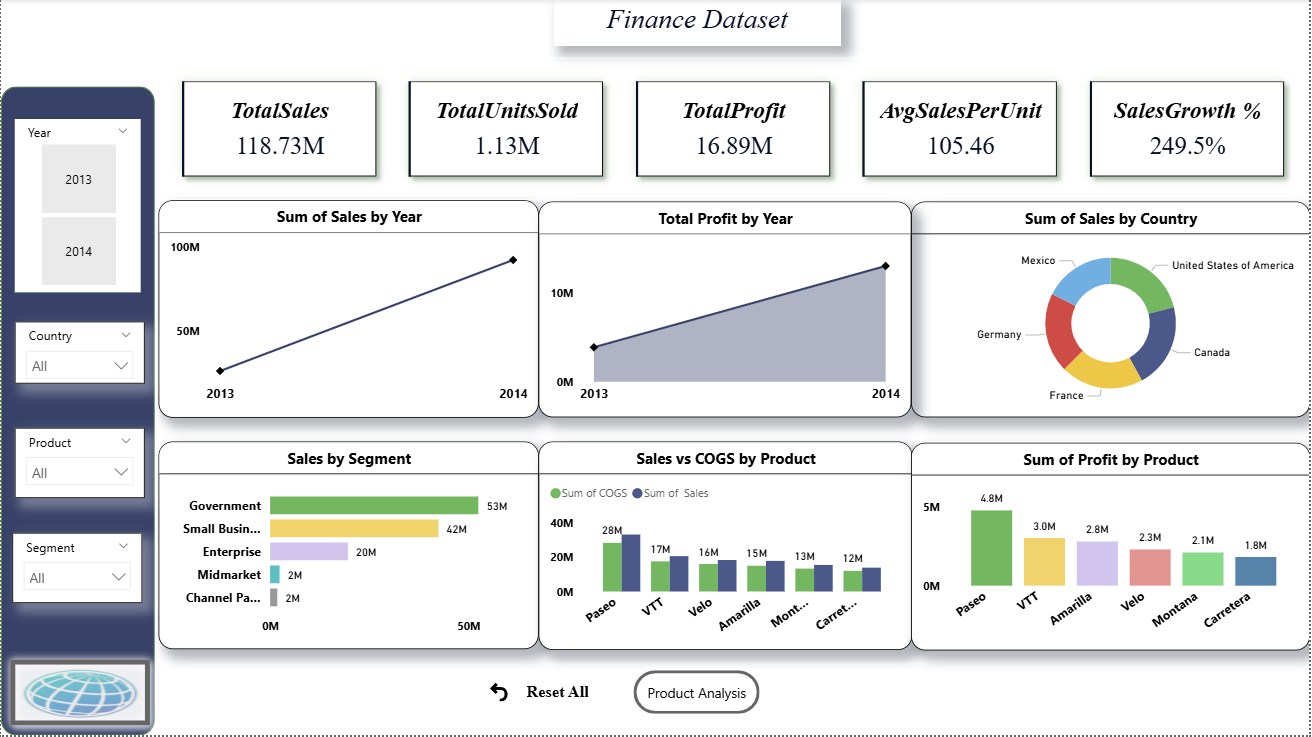

This screenshot's page, from the dashboard's own definition file:
{"tool":"powerbi","page":{"name":"Q-9(Overview)","canvas":[1280,720],"ordinal":0},"visuals":[{"type":"textbox","box":[540.5,0,281.3,45.2],"z":0},{"type":"donutChart","title":"Sum of  Sales by Country","fields":{"Y":["Sum(financials. Sales)"],"Category":["financials.Country"]},"box":[890.2,198.1,390.1,211.6],"z":1000},{"type":"clusteredBarChart","title":"Sales by Segment","fields":{"Category":["financials.Segment"],"Y":["Sum(financials. Sales)"]},"box":[154.1,432.9,371.7,203],"z":2000},{"type":"clusteredColumnChart","title":"Sales vs COGS by Product","fields":{"Y":["Sum(financials.COGS)","Sum(financials. Sales)"],"Category":["financials.Product"]},"box":[525.8,432.9,365.6,204.2],"z":3000},{"type":"clusteredColumnChart","fields":{"Category":["financials.Product"],"Y":["Sum(financials.Profit)"]},"box":[890.2,434.1,390.1,203],"z":4000},{"type":"lineChart","title":"Sum of  Sales by Year","fields":{"Category":["financials.Date.Variation.Date Hierarchy.Year","financials.Date.Variation.Date Hierarchy.Quarter","financials.Date.Variation.Date Hierarchy.Month","financials.Date.Variation.Date Hierarchy.Day"],"Y":["Sum(financials. Sales)"]},"box":[154.1,196.9,371.7,212.8],"z":5000},{"type":"shape","box":[0,85.3,150.4,634.8],"z":6000},{"type":"slicer","title":"Product","fields":{"Values":["financials.Product"]},"box":[13.5,419.4,127.2,68.5],"z":7000},{"type":"slicer","title":"Segment","fields":{"Values":["financials.Segment"]},"box":[11,522.1,127.2,68.5],"z":8000},{"type":"slicer","title":"Country","fields":{"Values":["financials.Country"]},"box":[13.5,315.5,127.2,61.1],"z":9000},{"type":"areaChart","title":"Total Profit by Year","fields":{"Category":["financials.Date.Variation.Date Hierarchy.Year","financials.Date.Variation.Date Hierarchy.Quarter","financials.Date.Variation.Date Hierarchy.Month","financials.Date.Variation.Date Hierarchy.Day"],"Y":["financials.TotalProfit"]},"box":[525.8,198.1,364.4,211.6],"z":10000},{"type":"cardVisual","fields":{"Data":["financials.TotalSalesF","financials.TotalUnitsSold","financials.TotalProfit","financials.AvgSalesPerUnit","financials.SalesGrowth %"]},"box":[154.1,57.5,1126.2,139.4],"z":11000},{"type":"actionButton","box":[465.9,656.7,121.1,42.8],"z":12000},{"type":"actionButton","box":[0,637.7,154.7,82.4],"z":13000},{"type":"actionButton","box":[618.8,656.7,123.5,42.8],"z":14000},{"type":"slicer","fields":{"Values":["financials.Year"]},"box":[13.9,117.2,123.4,169.6],"z":15000}]}

Visuals, with their boxes in screenshot pixels (x1, y1, x2, y2), scaled from the page's 1280x720 canvas onto the 1312x737 screenshot:
textbox: {"left": 554, "top": 0, "right": 842, "bottom": 46}
"Sum of  Sales by Country" donutChart: {"left": 912, "top": 203, "right": 1311, "bottom": 419}
"Sales by Segment" clusteredBarChart: {"left": 158, "top": 443, "right": 539, "bottom": 651}
"Sales vs COGS by Product" clusteredColumnChart: {"left": 539, "top": 443, "right": 914, "bottom": 652}
clusteredColumnChart - financials.Product x Sum(financials.Profit): {"left": 912, "top": 444, "right": 1311, "bottom": 652}
"Sum of  Sales by Year" lineChart: {"left": 158, "top": 202, "right": 539, "bottom": 419}
shape: {"left": 0, "top": 87, "right": 154, "bottom": 736}
"Product" slicer: {"left": 14, "top": 429, "right": 144, "bottom": 499}
"Segment" slicer: {"left": 11, "top": 534, "right": 142, "bottom": 605}
"Country" slicer: {"left": 14, "top": 323, "right": 144, "bottom": 385}
"Total Profit by Year" areaChart: {"left": 539, "top": 203, "right": 912, "bottom": 419}
cardVisual - financials.TotalSalesF x financials.TotalUnitsSold: {"left": 158, "top": 59, "right": 1311, "bottom": 202}
actionButton: {"left": 478, "top": 672, "right": 602, "bottom": 716}
actionButton: {"left": 0, "top": 653, "right": 159, "bottom": 736}
actionButton: {"left": 634, "top": 672, "right": 761, "bottom": 716}
slicer - financials.Year: {"left": 14, "top": 120, "right": 141, "bottom": 294}
